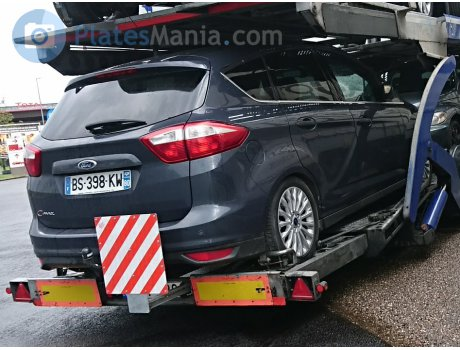licence plate: (63, 167, 133, 197)
